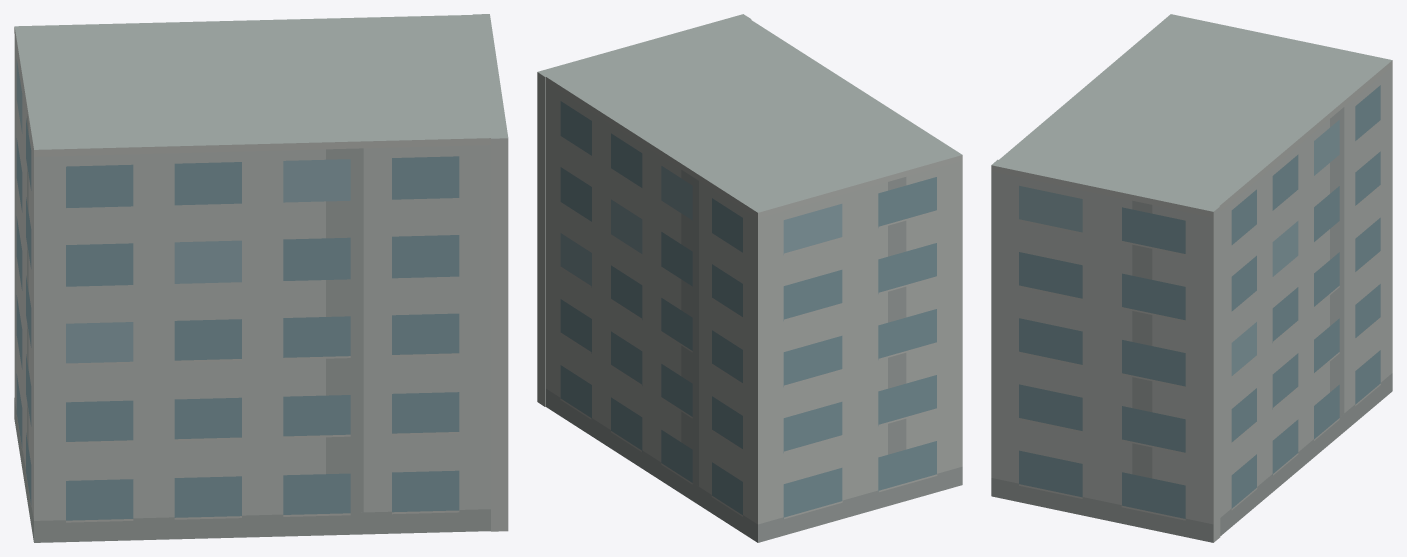
File: survey-upis-32852751.glb
3 renders of one model, left to right at view 1: azimuth 30°, elevation 25°; view 2: azimuth 150°, elevation 25°; view 3: azimuth 270°, elevation 25°, orthographic. The views are drawn at different scales.
Parts seen in each view (by area): view 1: survey-upis-32852751.tmp; view 2: survey-upis-32852751.tmp; view 3: survey-upis-32852751.tmp.
Boxes of the visible parts, x1,y1,x2,y2 form: survey-upis-32852751.tmp: (14, 14, 508, 542); survey-upis-32852751.tmp: (537, 14, 962, 542); survey-upis-32852751.tmp: (991, 14, 1392, 542).
Bounding box in the file's own units: 17.56 × 13.7 × 15.06.
